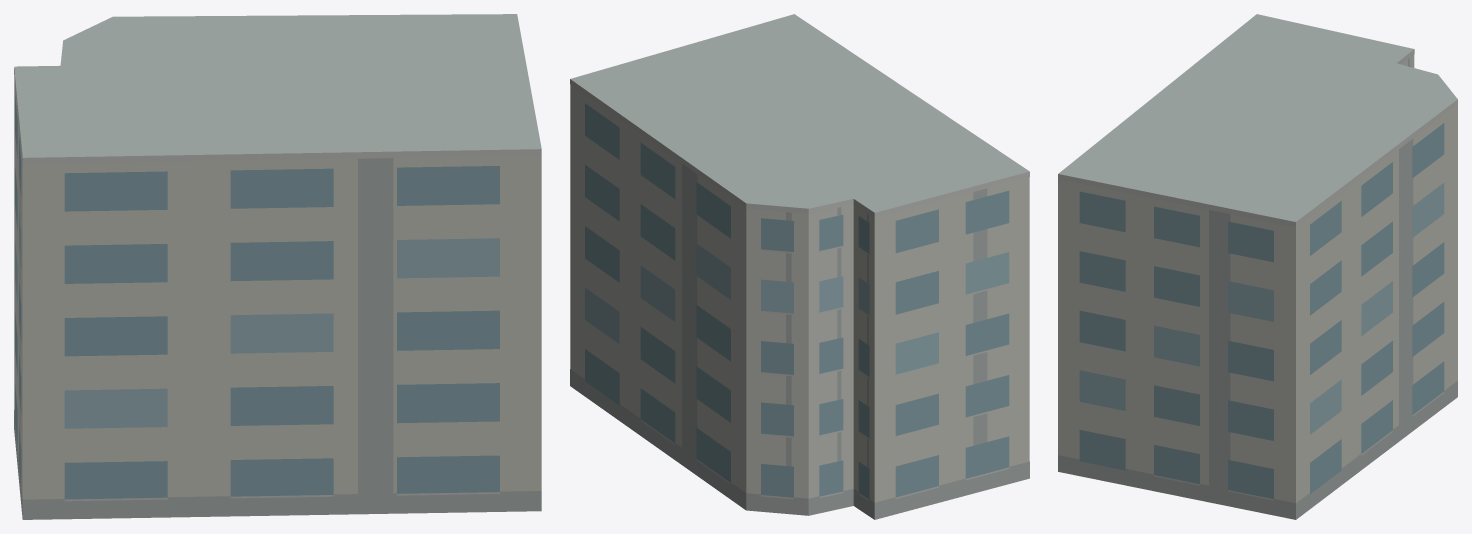
The model's file is survey-upis-32841929.glb.
3 views of the same model, side by side, from view 1: azimuth 30°, elevation 25°; view 2: azimuth 150°, elevation 25°; view 3: azimuth 270°, elevation 25° (orthographic). The views are drawn at different scales.
Parts seen in each view (by area): view 1: survey-upis-32841929.tmp; view 2: survey-upis-32841929.tmp; view 3: survey-upis-32841929.tmp.
Part boxes in pixels (box(x1,y1,x2,y2)): survey-upis-32841929.tmp: box(14, 14, 541, 519); survey-upis-32841929.tmp: box(570, 14, 1029, 519); survey-upis-32841929.tmp: box(1058, 14, 1457, 519).
Bounding box in the file's own units: 20.38 × 13.6 × 16.55.
